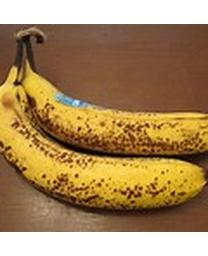banana: (1, 28, 207, 213)
